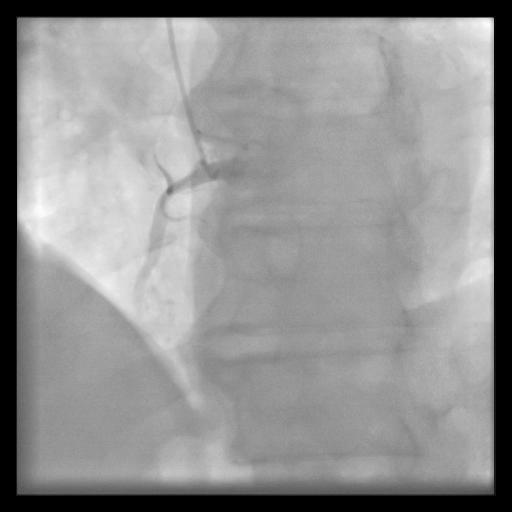Stenosis: (161, 180, 187, 200)
